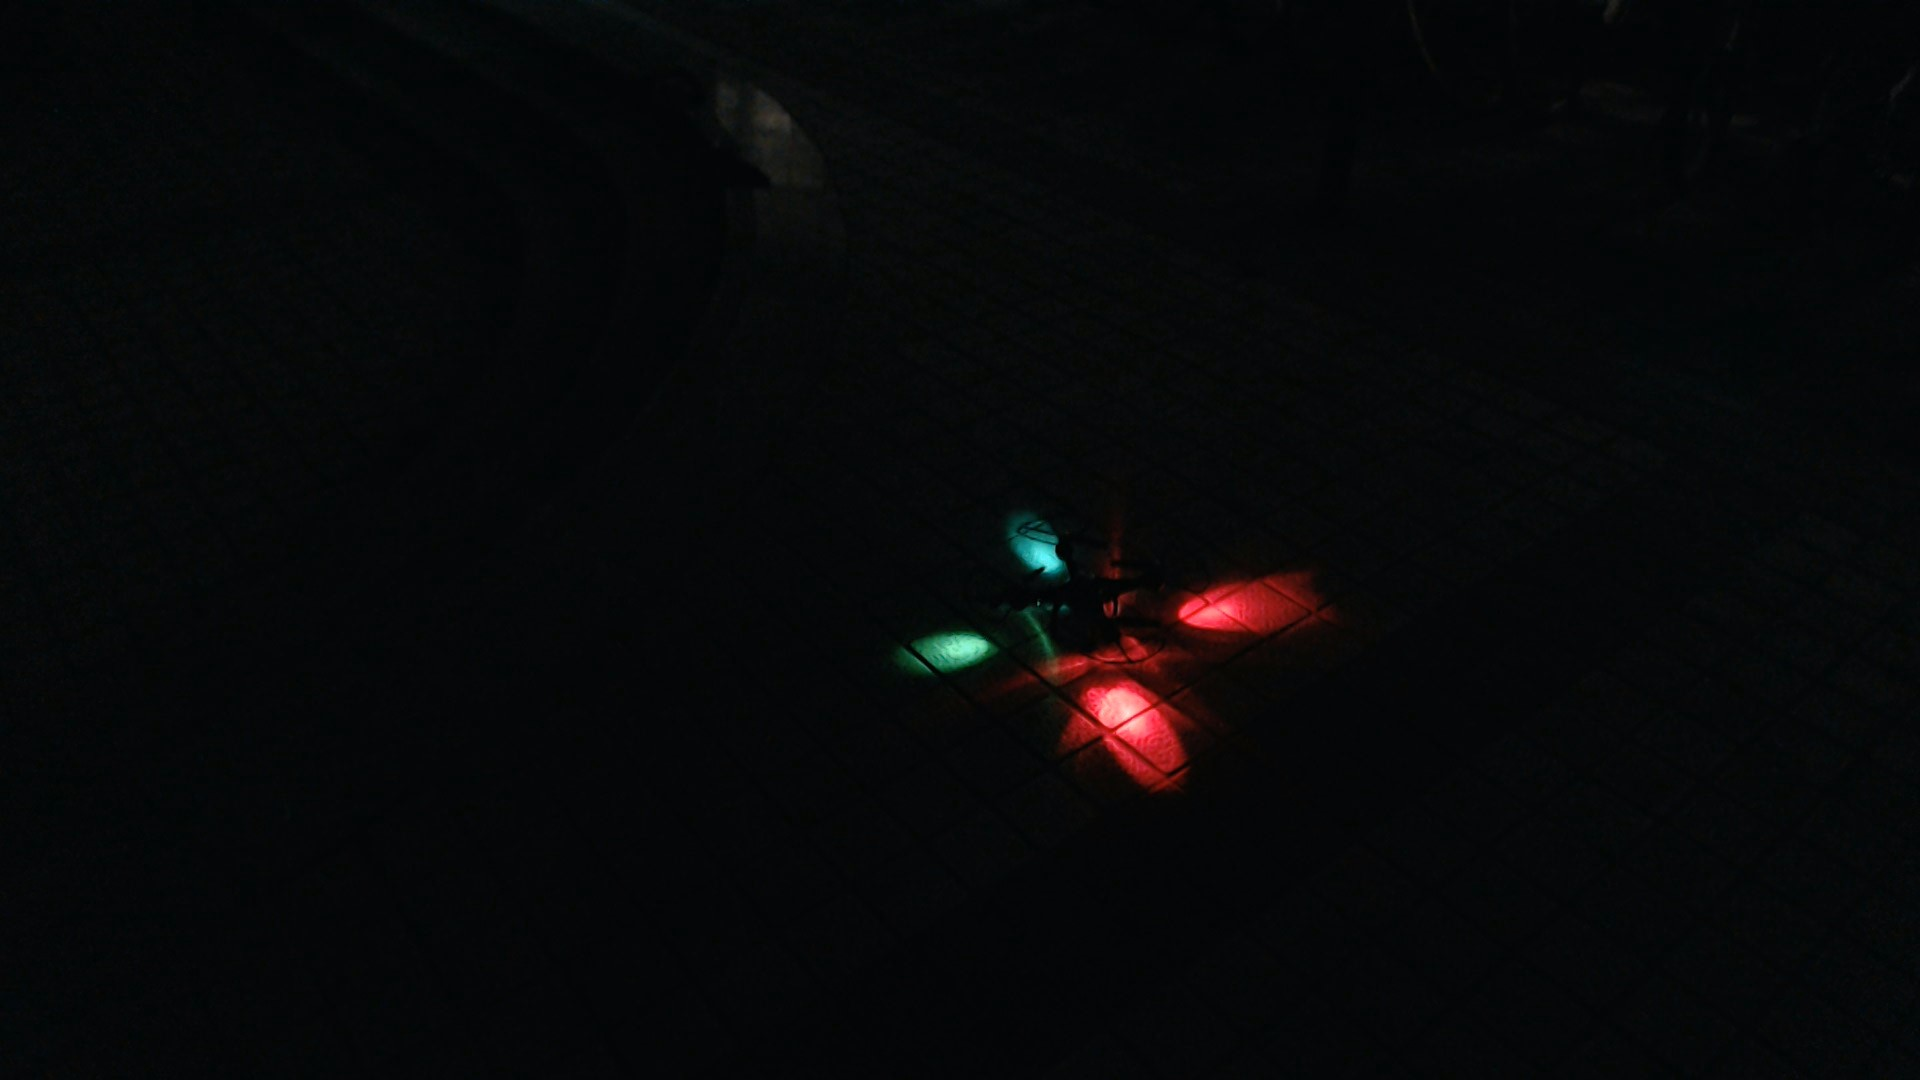test_drone: (961, 508, 1215, 673)
